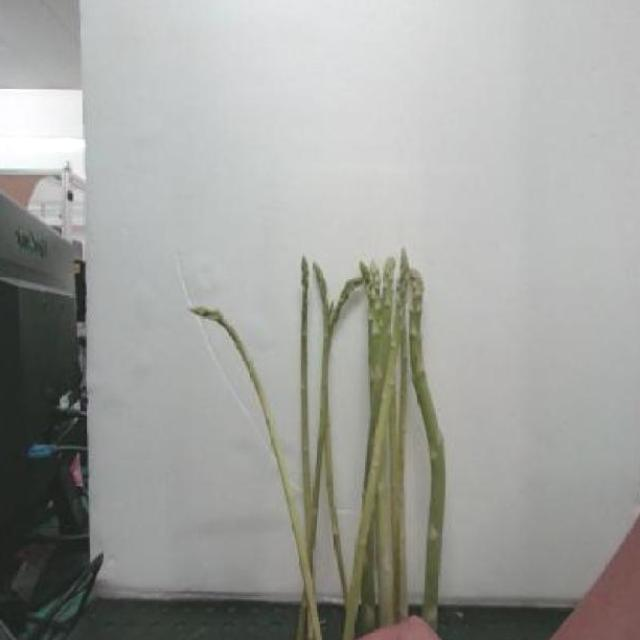aspargus: (190, 306, 328, 640), (396, 254, 448, 626)
